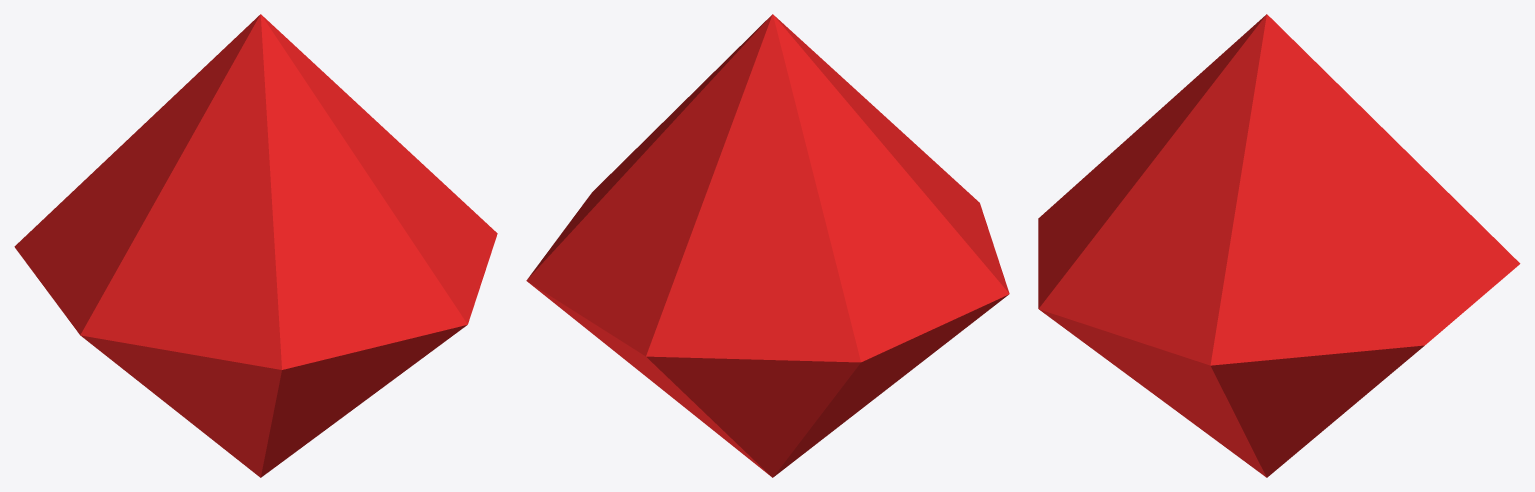
Rendered from cristal-3-1.fbx.
3 views of the same model, side by side, from view 1: azimuth 30°, elevation 25°; view 2: azimuth 150°, elevation 25°; view 3: azimuth 270°, elevation 25° (orthographic).
Parts seen in each view (by area): view 1: Cylinder.817; view 2: Cylinder.817; view 3: Cylinder.817.
Part boxes in pixels (x1,y1,x2,y2): Cylinder.817: (14,14,497,477); Cylinder.817: (526,14,1009,477); Cylinder.817: (1038,14,1520,477).
Size of the model in its own units: 17.65 by 18.74 by 17.65.
